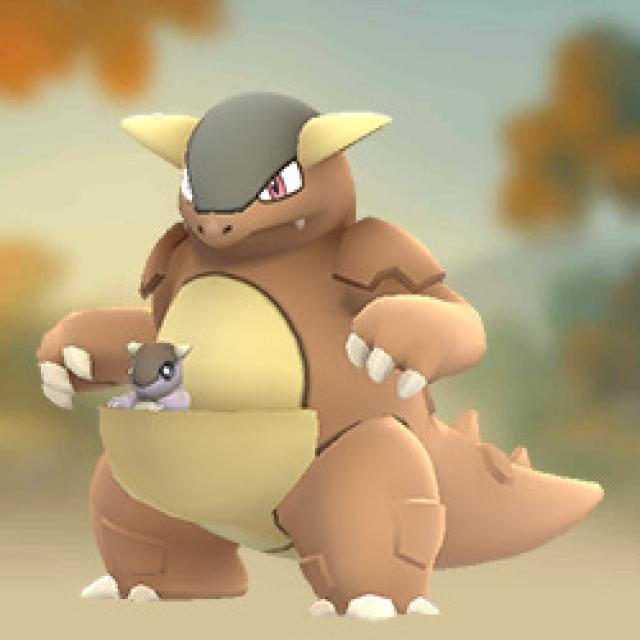Kangaskhan: (34, 93, 507, 628)
